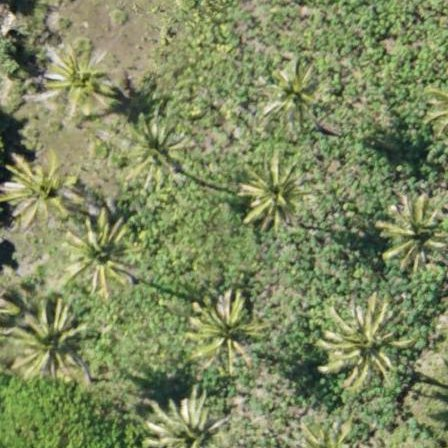palm_tree: (320, 302, 406, 394), (14, 305, 93, 387), (37, 38, 111, 116), (189, 297, 263, 371), (1, 153, 76, 224), (378, 194, 448, 269), (61, 217, 130, 288), (240, 161, 306, 231), (143, 395, 228, 448), (122, 122, 187, 187), (257, 59, 323, 119)
